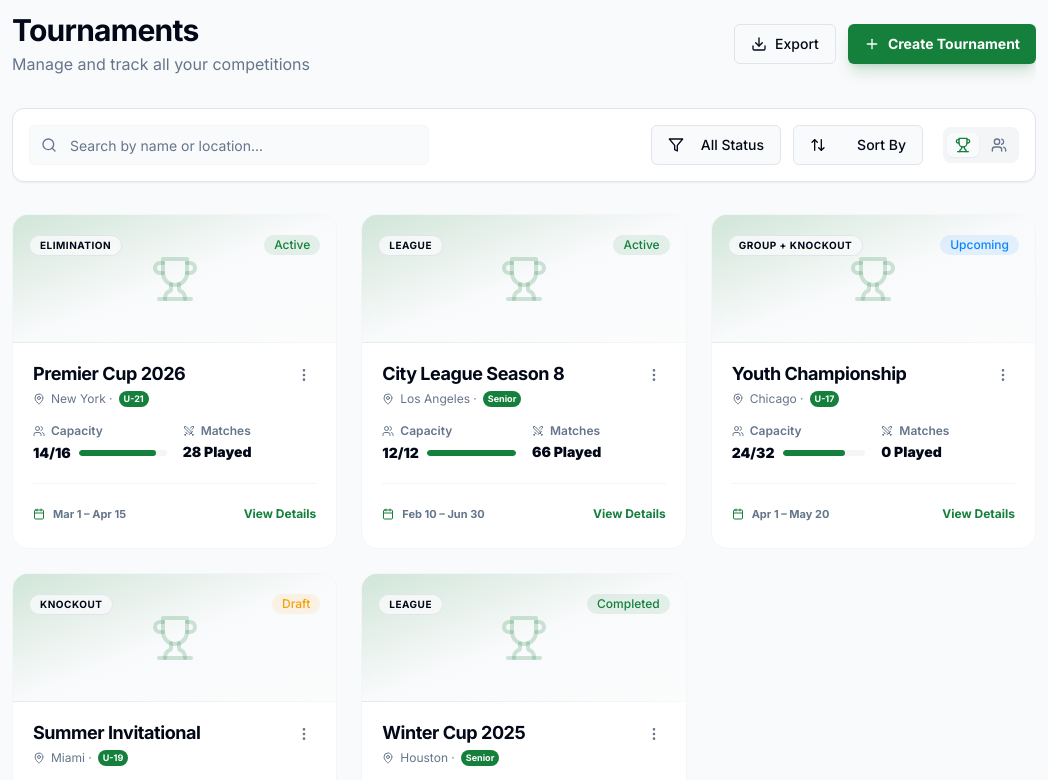
Test: TournamentsPage › filters tournaments by search query
Type "Premier Cup" into the field with placeholder "Search by name or location..." at x=229, y=145, box [29,125,429,165]
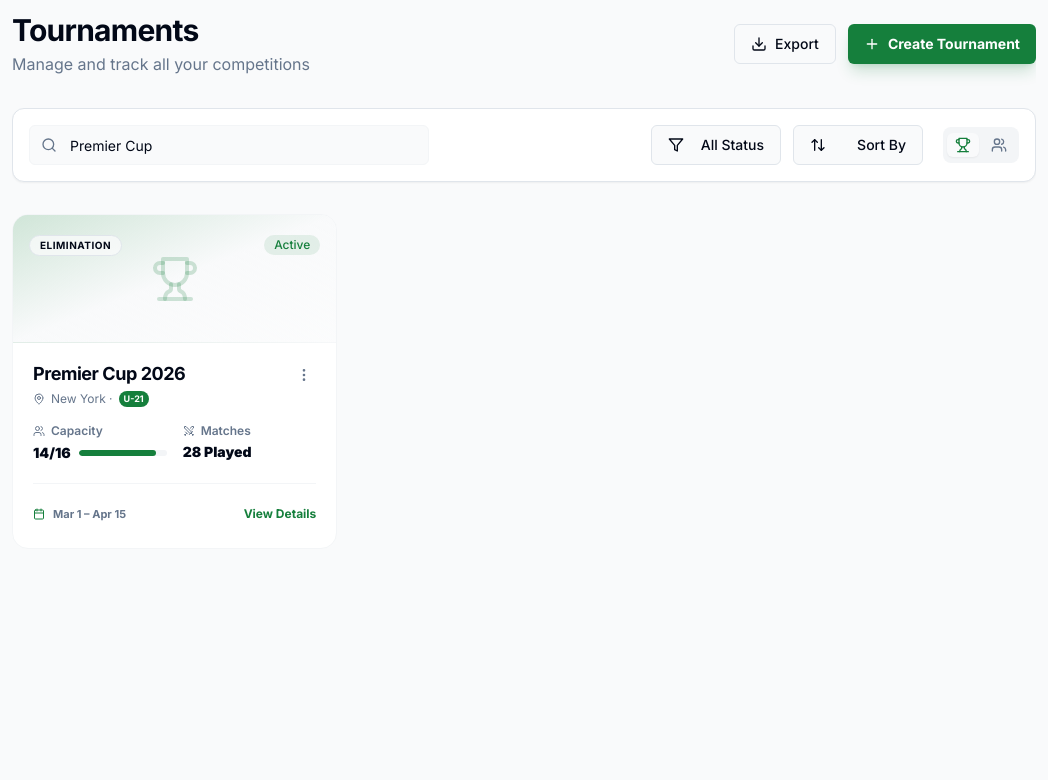
Expected: the heading "Premier Cup 2026" is shown, [33,363,185,386]
Result: the heading "City League Season 8" is gone
